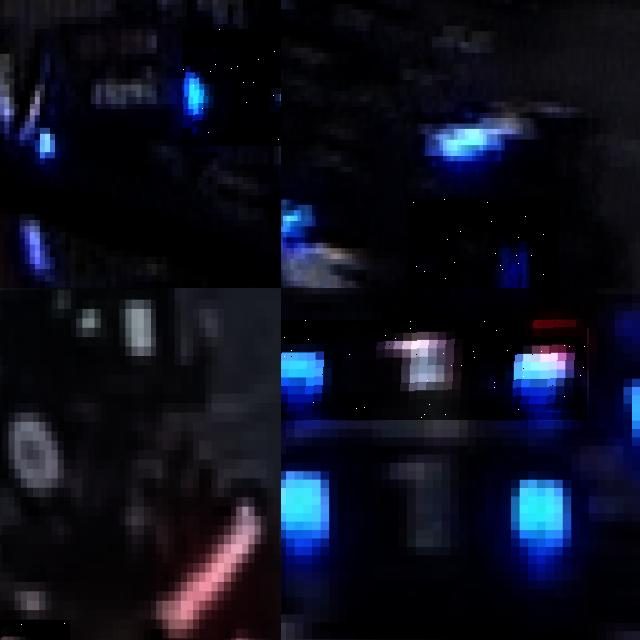B1: (281, 445, 571, 555), (281, 319, 588, 420), (406, 199, 559, 288)
B4: (181, 29, 281, 146)
R5: (186, 610, 279, 640)
